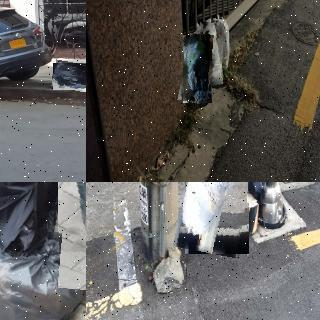Garbage: (0, 227, 86, 320), (179, 182, 255, 256), (52, 182, 86, 290), (180, 34, 215, 104), (196, 23, 223, 87), (51, 61, 86, 91), (214, 17, 231, 70), (247, 182, 270, 204)
